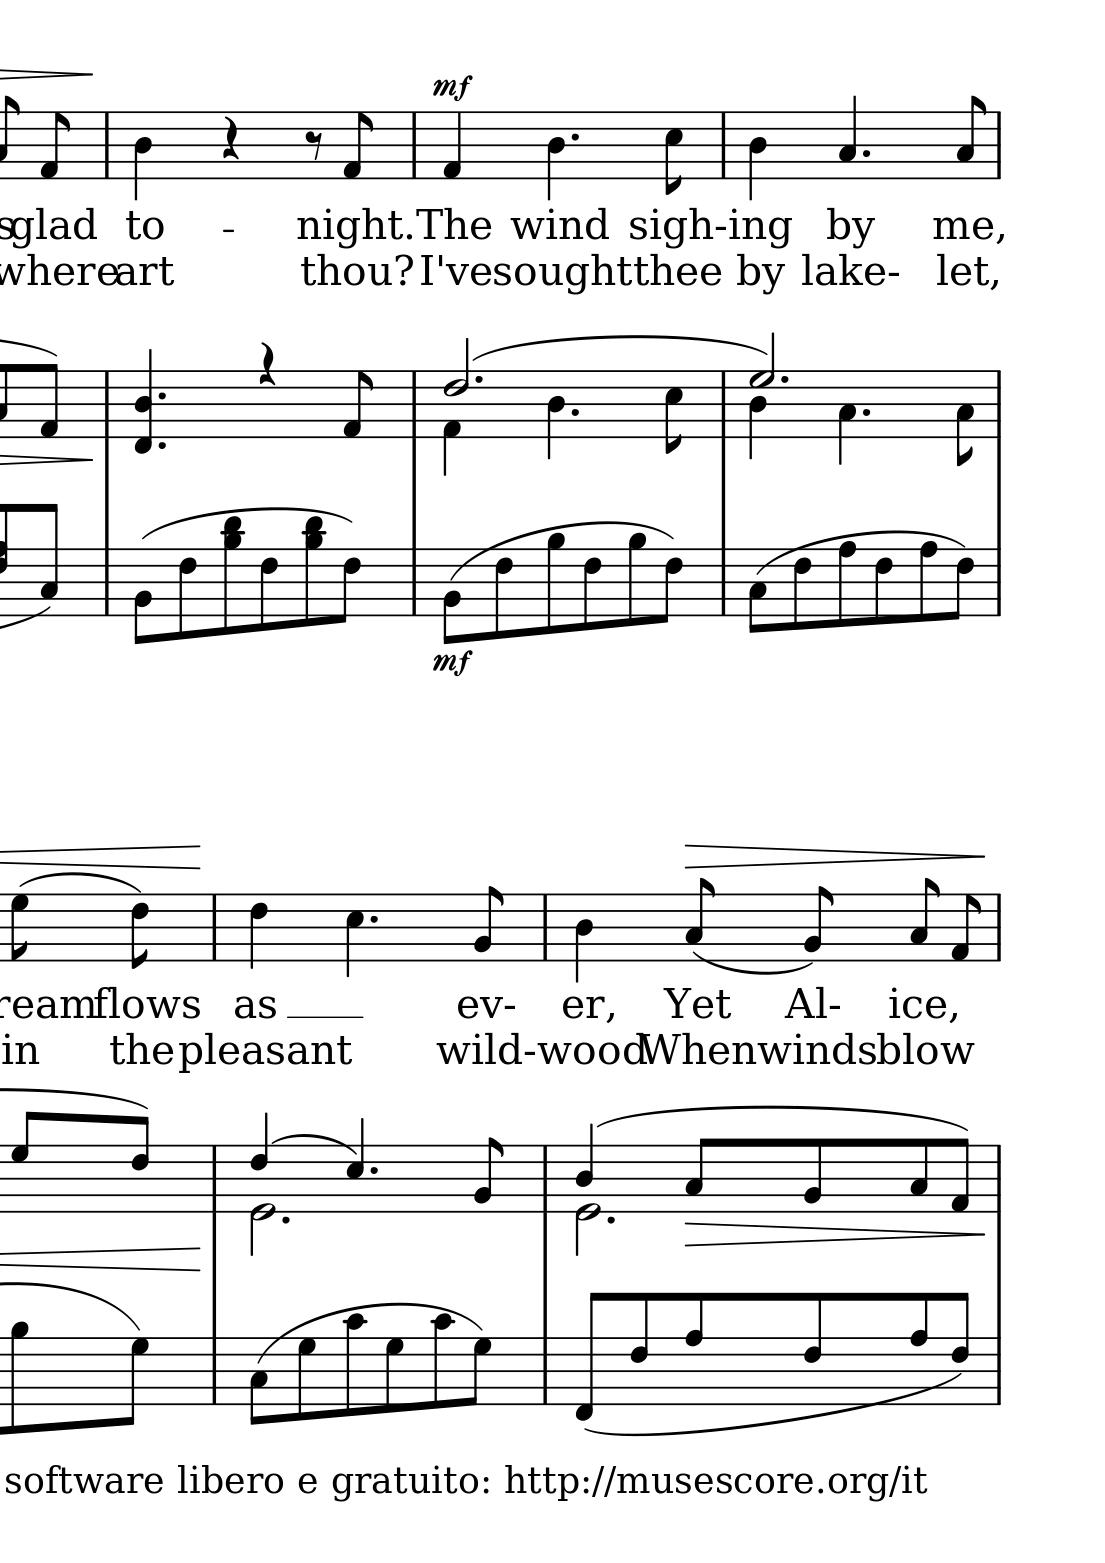4_-1_4: (134, 350, 154, 454)
4_1: (439, 110, 463, 182)
4_3: (835, 368, 857, 468), (836, 94, 857, 181)
4_4: (543, 370, 566, 464), (132, 109, 153, 201), (746, 109, 768, 201), (573, 892, 594, 983), (545, 110, 566, 203)
4_5: (343, 1116, 365, 1215), (343, 891, 364, 979)
4_6: (248, 892, 268, 971)
8_-1: (570, 1289, 604, 1424)
8_1: (37, 110, 71, 182), (340, 109, 373, 181), (341, 370, 372, 439), (951, 893, 981, 963), (948, 1136, 969, 1215), (37, 362, 57, 440)
8_10: (341, 1312, 367, 1418), (429, 1312, 454, 1410)
8_2: (471, 884, 503, 964), (801, 885, 834, 965), (472, 1136, 503, 1215), (130, 547, 152, 647), (441, 547, 463, 645), (801, 1137, 824, 1216)
8_3: (683, 875, 715, 964), (908, 877, 940, 964), (954, 94, 984, 182), (37, 502, 59, 619), (683, 1136, 713, 1215), (246, 1336, 269, 1428), (745, 547, 767, 636), (954, 368, 973, 469), (906, 1137, 930, 1215)
8_5: (661, 109, 684, 197), (663, 368, 683, 454)
8_6: (627, 1290, 651, 1409), (800, 1290, 824, 1408), (950, 1290, 971, 1408), (127, 1113, 151, 1215), (175, 547, 197, 642), (332, 547, 360, 625), (655, 547, 683, 625), (492, 547, 513, 642), (948, 547, 975, 622), (127, 892, 149, 973), (872, 548, 895, 627), (257, 547, 277, 634), (581, 547, 602, 633), (790, 547, 811, 631)
8_7: (117, 1335, 151, 1428), (10, 1109, 37, 1215), (462, 1336, 492, 1408), (295, 1336, 318, 1422), (381, 1336, 405, 1415), (8, 889, 31, 966)
8_8: (906, 1289, 929, 1408), (683, 1290, 706, 1408), (835, 539, 856, 629), (917, 539, 938, 624)
8_9: (7, 1319, 32, 1436), (543, 532, 564, 636), (625, 531, 647, 628)
8_9_11: (221, 515, 244, 636), (300, 515, 324, 628)
Diminuendo_hairpin: (683, 1220, 984, 1246), (684, 843, 987, 867)
Rests4: (220, 114, 240, 161), (257, 341, 276, 387)
Rests8: (303, 129, 324, 163)
Single_barline: (405, 548, 426, 616), (204, 1336, 224, 1405), (204, 1144, 222, 1213), (715, 547, 732, 616), (989, 548, 1006, 617), (405, 112, 423, 177), (98, 548, 115, 616), (536, 1146, 552, 1213), (405, 372, 422, 438), (206, 895, 222, 960), (98, 112, 115, 177), (990, 1144, 1006, 1213), (990, 112, 1006, 179), (990, 371, 1006, 438), (990, 895, 1006, 961), (537, 1338, 552, 1405), (990, 1338, 1006, 1405), (98, 372, 114, 438), (716, 372, 732, 438), (537, 895, 552, 960), (715, 112, 731, 177)
Slur: (598, 1106, 969, 1129), (468, 336, 769, 361), (142, 506, 355, 541), (690, 950, 810, 975), (271, 1132, 353, 1155)
dot: (471, 372, 484, 387), (567, 130, 581, 144), (155, 438, 169, 452), (366, 912, 380, 926), (604, 1211, 617, 1226), (367, 1164, 380, 1177), (279, 1211, 292, 1225), (779, 373, 790, 386), (155, 389, 167, 402), (859, 407, 872, 419), (860, 146, 871, 160), (568, 407, 580, 419)
mf: (429, 647, 474, 680), (431, 74, 474, 106)
